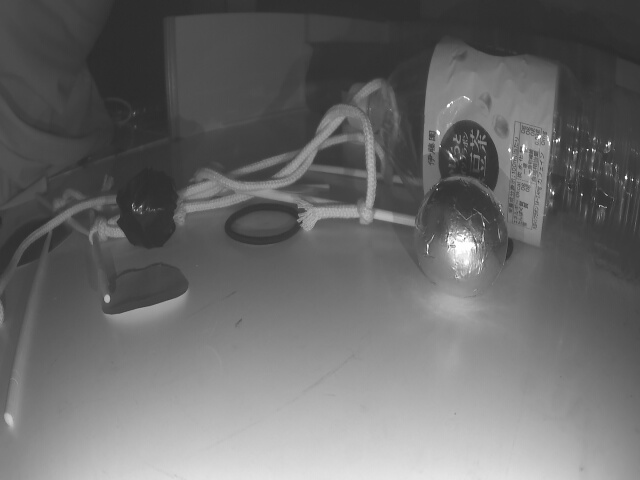Dead: (118, 164, 181, 247)
Live: (417, 171, 509, 301)
